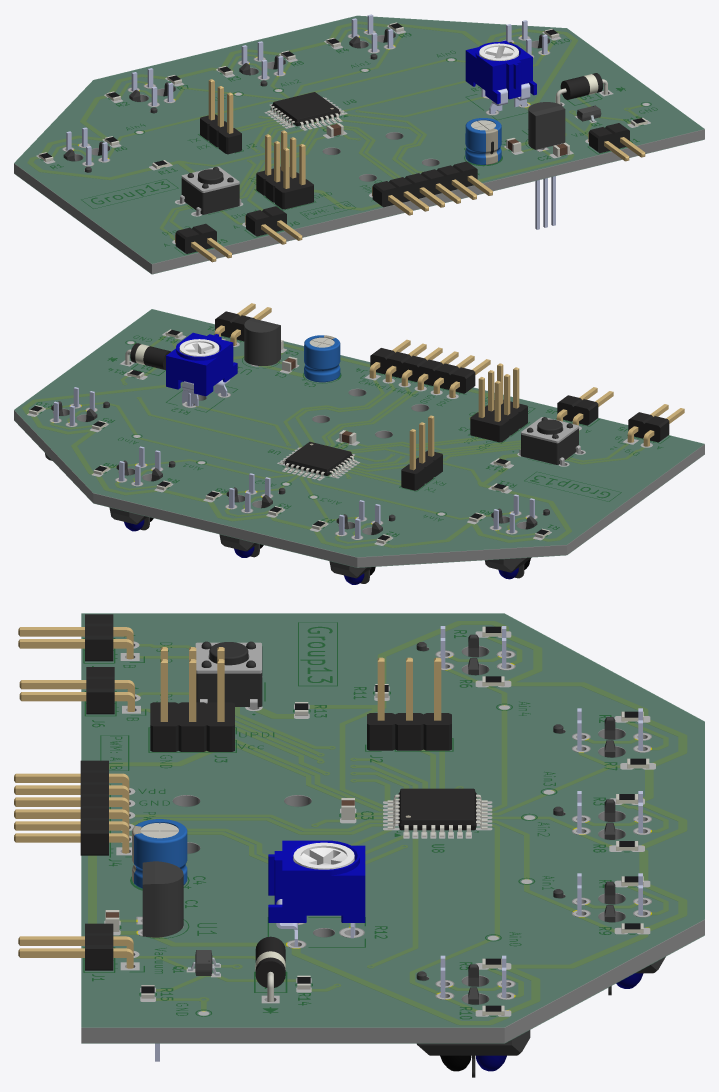
Rendered from line-follower-atmega4808-sensor-array.glb.
3 views of the same model, one above another, from view 1: azimuth 30°, elevation 25°; view 2: azimuth 150°, elevation 25°; view 3: azimuth 270°, elevation 25° (orthographic). The views are drawn at different scales.
Visible parts, largest first — view 1: =>[0:1:1:20], =>[0:1:1:21], =>[0:1:1:16], R12, J4, J3, =>[0:1:1:19], U1, SW1, =>[0:1:1:17], J2, U8 (+10 smaller); view 2: =>[0:1:1:20], =>[0:1:1:21], =>[0:1:1:16], R12, J4, J3, =>[0:1:1:19], SW1, =>[0:1:1:17], J2, U8, C4 (+10 smaller); view 3: =>[0:1:1:20], =>[0:1:1:21], =>[0:1:1:16], J4, R12, =>[0:1:1:19], =>[0:1:1:17], J3, J2, U8, SW1, U7 (+10 smaller).
Boxes of the visible parts, x1,y1,x2,y2 form: =>[0:1:1:20]: (14, 15, 704, 274); =>[0:1:1:21]: (14, 16, 704, 274); =>[0:1:1:16]: (28, 22, 641, 239); R12: (465, 40, 536, 114); J4: (372, 161, 492, 215); J3: (256, 130, 313, 209); =>[0:1:1:19]: (40, 33, 657, 255); U1: (528, 102, 565, 229); SW1: (180, 166, 241, 215); =>[0:1:1:17]: (36, 25, 650, 244); J2: (200, 79, 241, 154); U8: (267, 92, 344, 129); =>[0:1:1:20]: (14, 309, 704, 567); =>[0:1:1:21]: (14, 310, 704, 567); =>[0:1:1:16]: (22, 336, 643, 548); R12: (166, 332, 237, 406); J4: (369, 339, 490, 397); J3: (470, 363, 527, 442); =>[0:1:1:19]: (36, 326, 670, 542); SW1: (519, 417, 580, 465); =>[0:1:1:17]: (27, 331, 652, 545); J2: (401, 415, 442, 490); U8: (279, 442, 357, 478); C4: (304, 335, 340, 382); =>[0:1:1:20]: (81, 613, 704, 1043); =>[0:1:1:21]: (81, 614, 704, 1043); =>[0:1:1:16]: (88, 621, 686, 1024); J4: (14, 760, 129, 855); R12: (268, 840, 365, 946); =>[0:1:1:19]: (83, 622, 640, 1019); =>[0:1:1:17]: (104, 631, 655, 1016); J3: (150, 647, 234, 751); J2: (367, 657, 451, 750); U8: (387, 788, 487, 836); SW1: (195, 641, 262, 709); U7: (416, 955, 530, 1077).
Size of the model in its own units: 0.088 by 0.0212 by 0.062.
